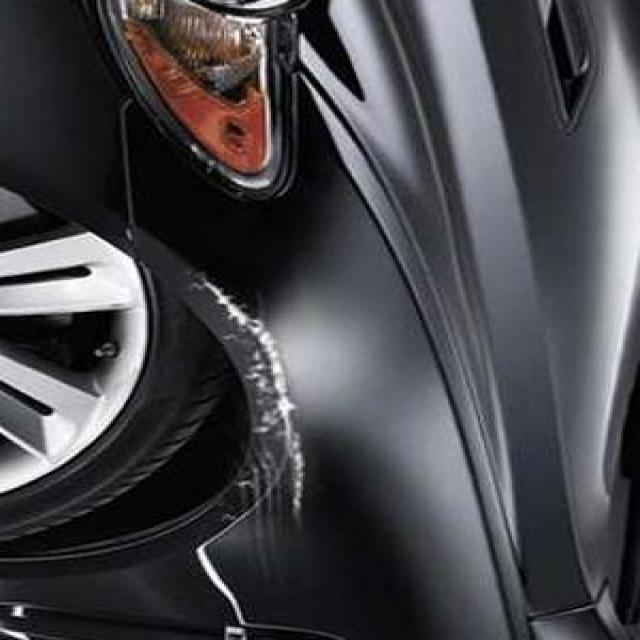scratch: (156, 266, 322, 562)
